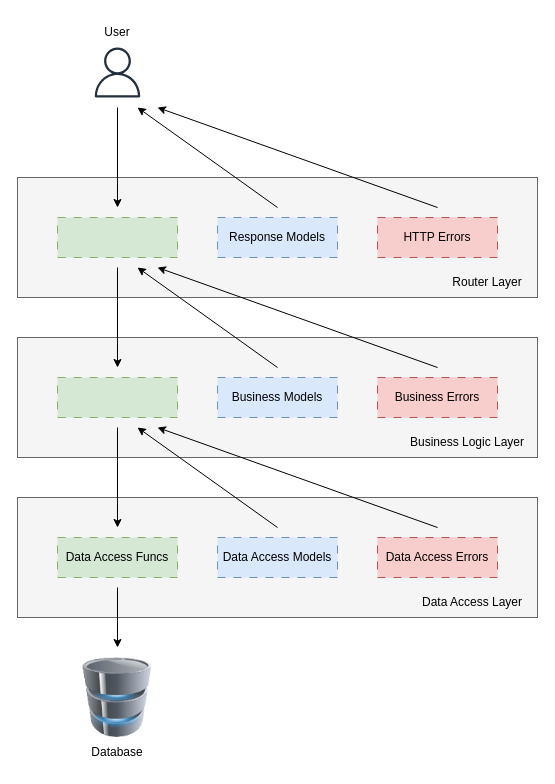
The diagram is 555 pixels wide and 784 high, and some of its shapes have lost their labels. The box of each missing label's shape, as (x1, y1, x2, y2) in pixels:
Business Funcs: (56, 376, 178, 418)
HTTP Handlers: (56, 216, 178, 258)
